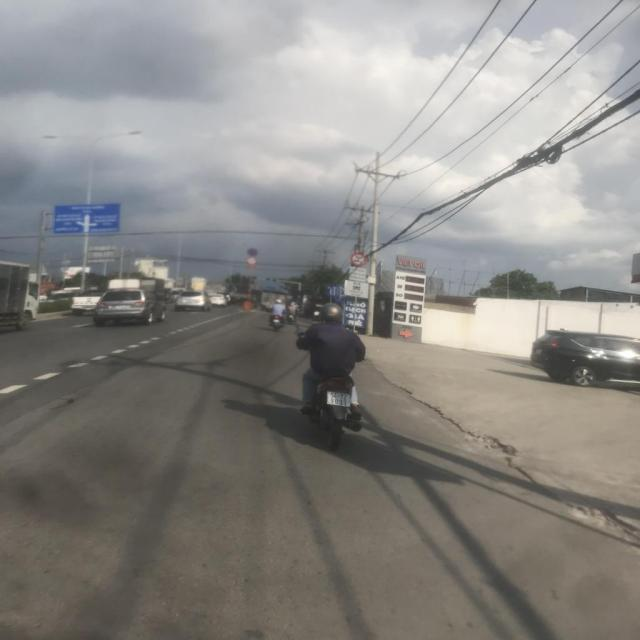cam_dung_xe_va_do_xe: (248, 248, 258, 257)
cam_o_to_tai_va_xe_khach: (351, 252, 366, 267)
cam_xe_2_banh_va_xe_3_banh_co_dong_co: (246, 258, 257, 266)
khac: (54, 203, 120, 233), (344, 280, 368, 298), (348, 266, 367, 282)
